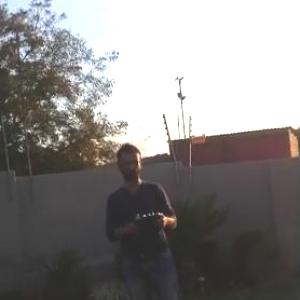follow: (99, 135, 191, 299)
